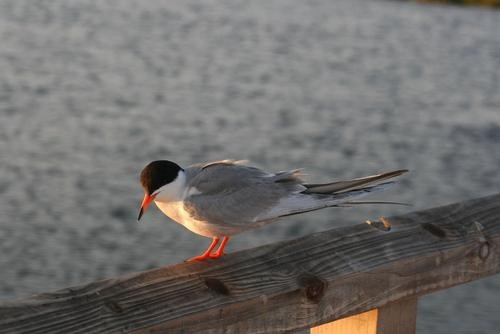bird: (134, 156, 410, 265)
